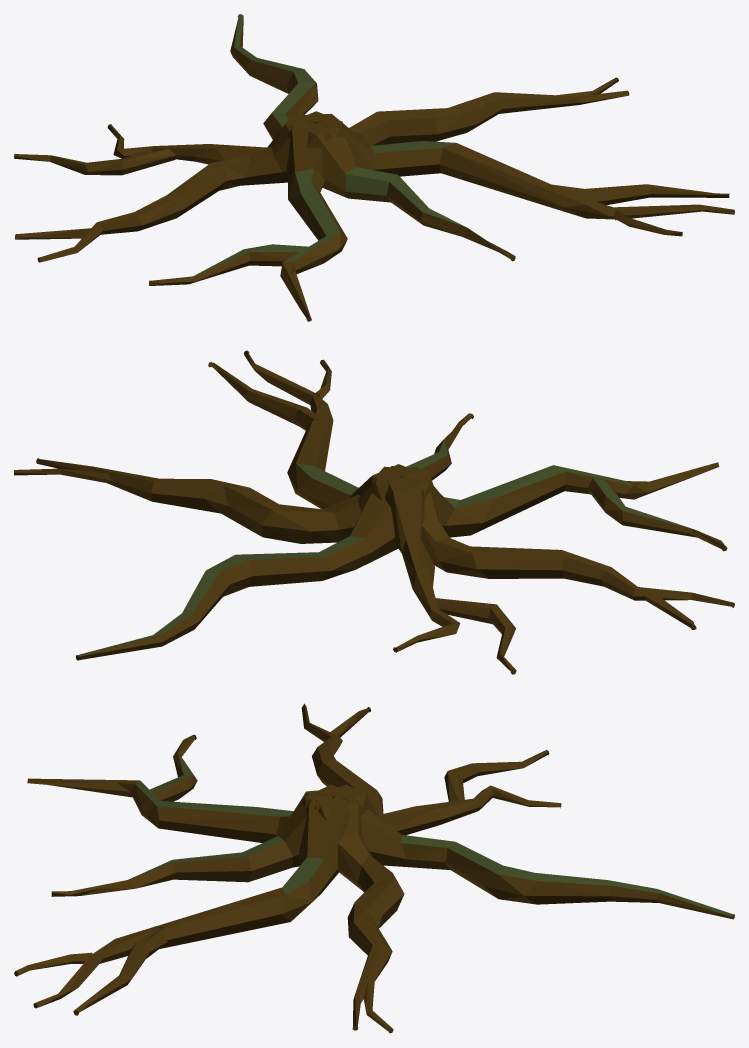
The model's file is roots.fbx.
The picture shows the model from 3 angles, top to bottom: view 1: azimuth 30°, elevation 25°; view 2: azimuth 150°, elevation 25°; view 3: azimuth 270°, elevation 25°; orthographic projection. The views are drawn at different scales.
Parts seen in each view (by area): view 1: roots; view 2: roots; view 3: roots.
Part boxes in pixels (x1,y1,x2,y2): roots: (14,14,734,321); roots: (14,350,734,674); roots: (14,703,734,1033).
Bounding box in the file's own units: 589 × 57.36 × 551.
